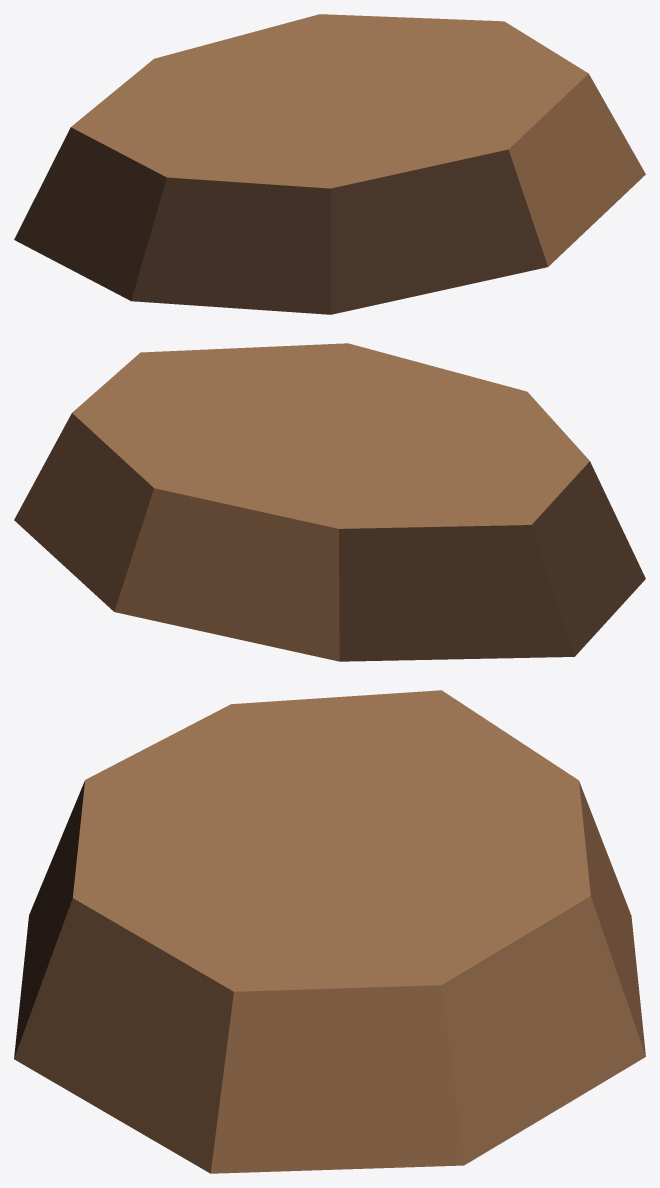
Rendered from SM_Terrace_A.fbx.
3 renders of one model, top to bottom at view 1: azimuth 30°, elevation 25°; view 2: azimuth 150°, elevation 25°; view 3: azimuth 270°, elevation 25°, orthographic. The views are drawn at different scales.
Visible parts, largest first — view 1: SM_Terrace_A; view 2: SM_Terrace_A; view 3: SM_Terrace_A.
Part boxes in pixels (box(x1,y1,x2,y2)): SM_Terrace_A: box(14, 14, 645, 314); SM_Terrace_A: box(14, 343, 645, 661); SM_Terrace_A: box(14, 690, 645, 1173).
Bounding box in the file's own units: 6.9 × 5.01 × 1.3.
